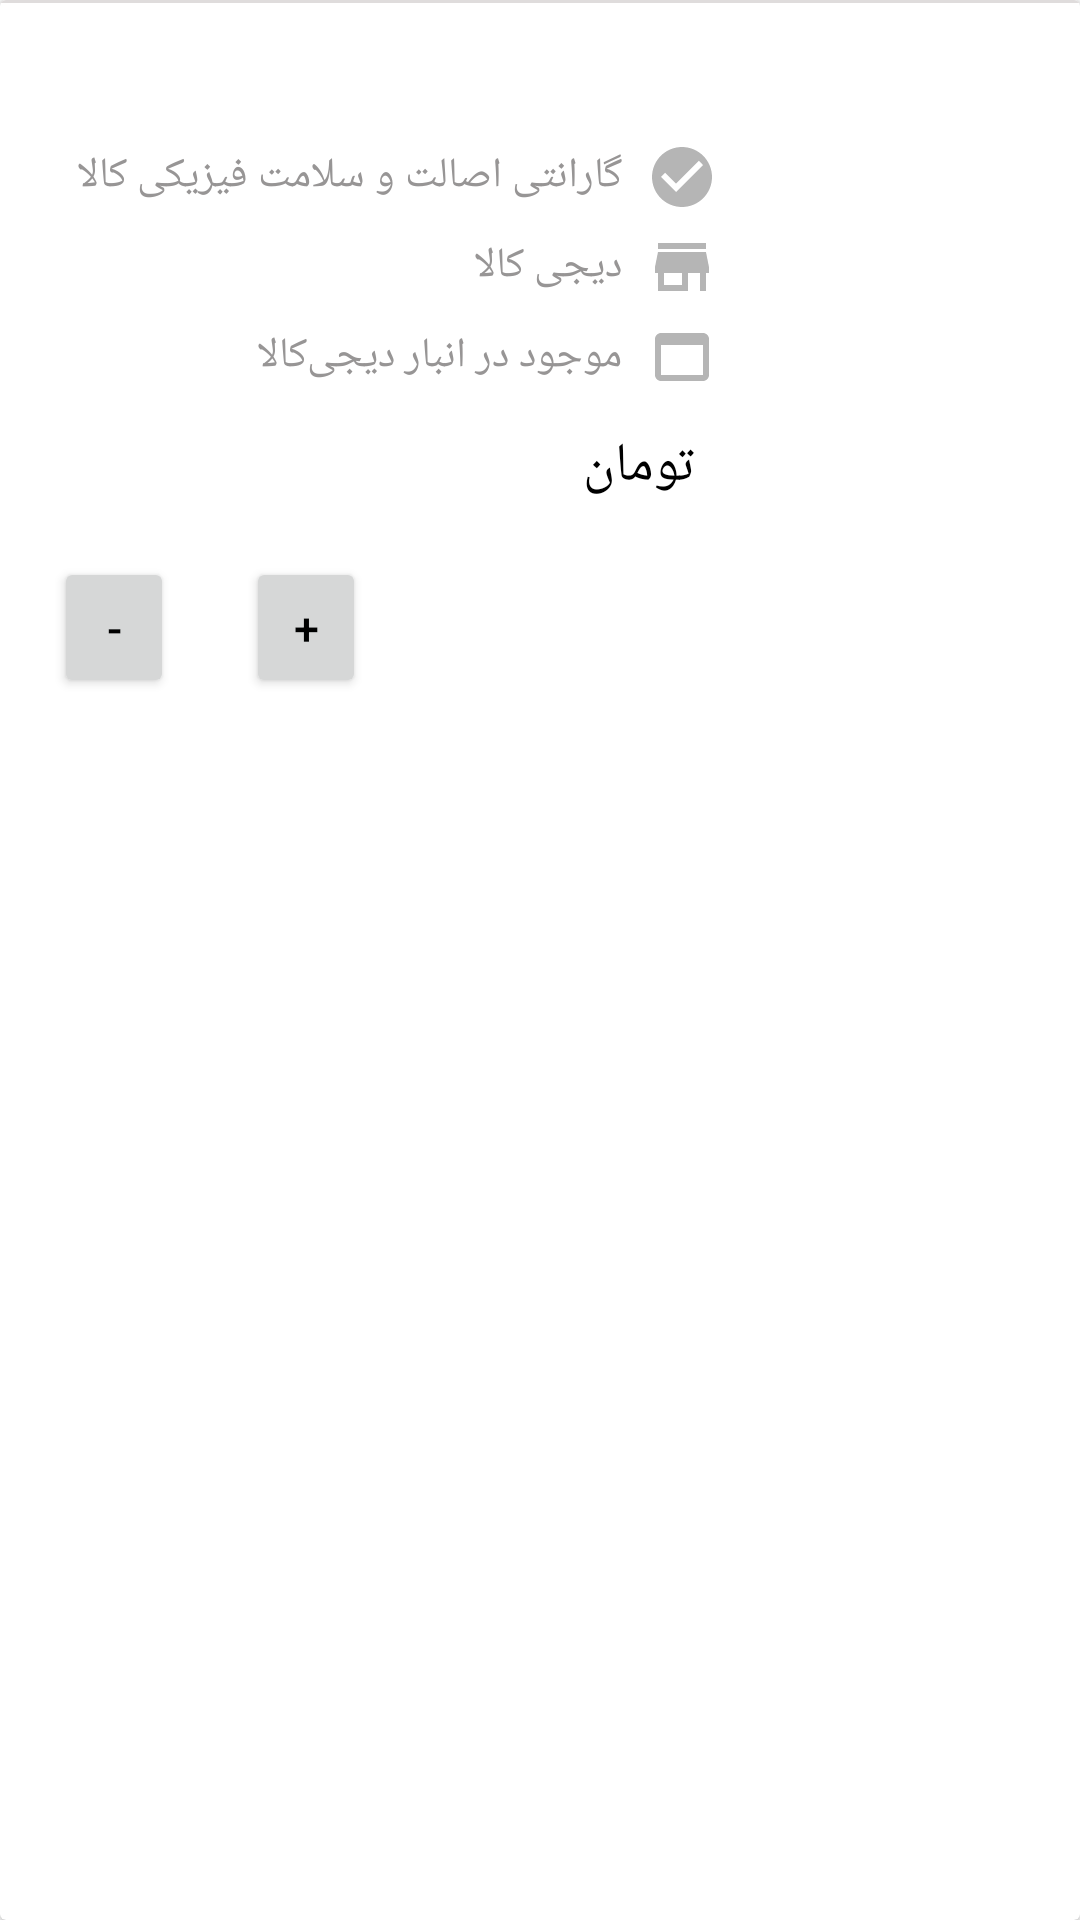

Where icons sit on this 1080x1920 app screen, as bbox=(x1, y1, x2, y2):
check circle: bbox=(652, 147, 712, 207)
store: bbox=(655, 243, 709, 291)
web: bbox=(655, 333, 709, 381)
